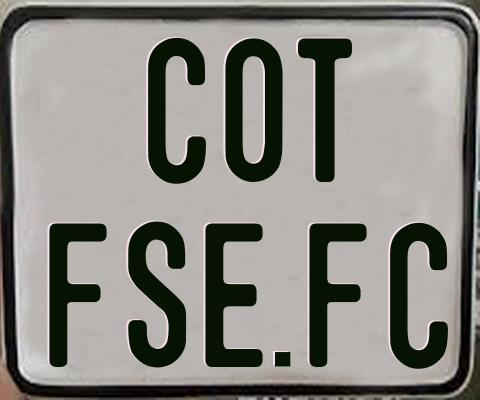0: (224, 38, 285, 187)
C: (388, 221, 452, 373), (145, 38, 205, 186)
E: (204, 223, 265, 370)
F: (48, 223, 109, 371), (309, 223, 368, 371)
S: (127, 218, 188, 368)
T: (297, 38, 353, 185)
